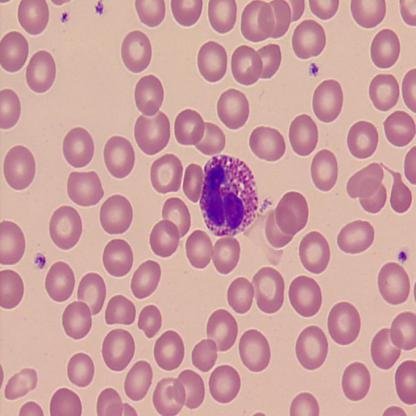Eosinophil: (200, 153, 259, 237)
